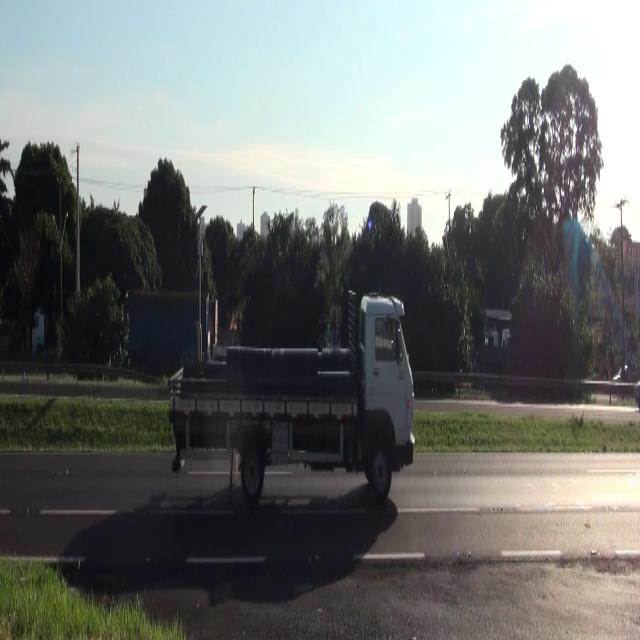-axle: (368, 430, 393, 497), (240, 434, 264, 496)
